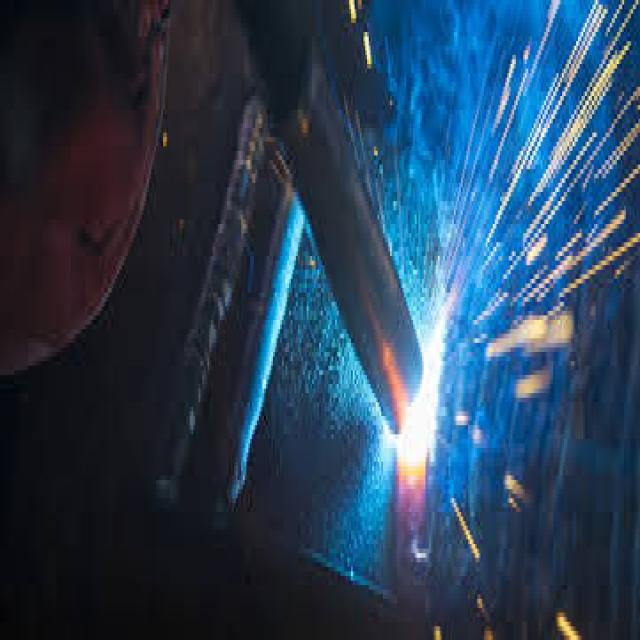welding: (399, 349, 438, 449)
